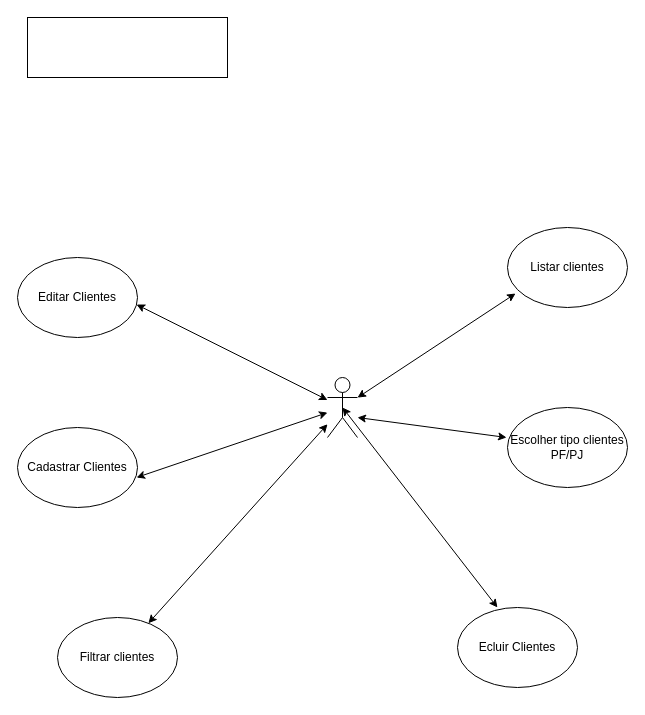
Some shapes in this 645 by 715 pixel diagram are drawn without their labels. Each missing label, with the centre of its shape:
"Diagrama de Casos de Uso" belongs at (x=127, y=47).
"Usuario" belongs at (x=342, y=407).
